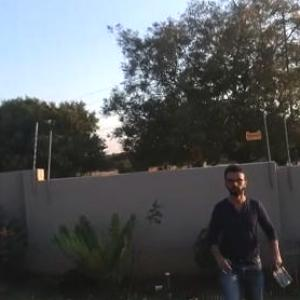follow: (202, 160, 296, 299)
